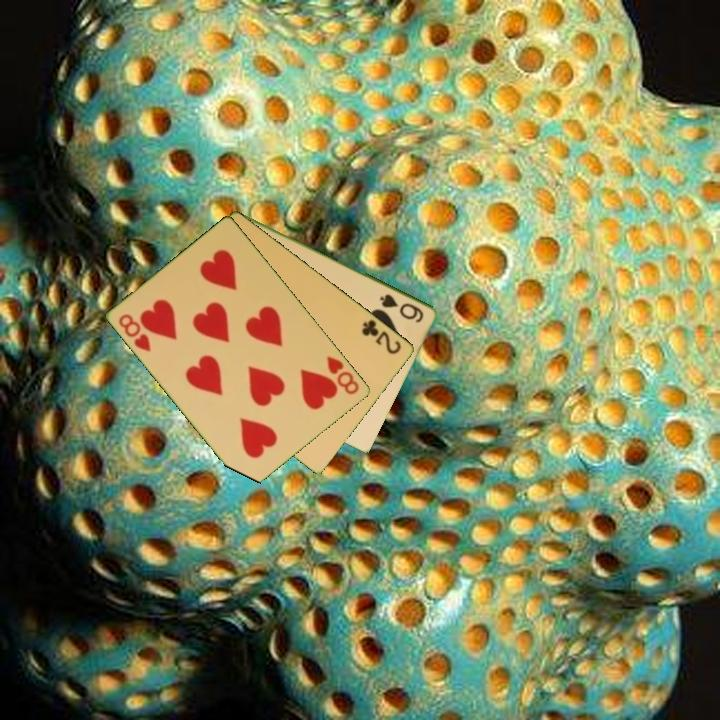2c: (358, 316, 404, 357)
6s: (377, 290, 427, 326)
8h: (323, 352, 362, 397), (115, 310, 154, 355)
